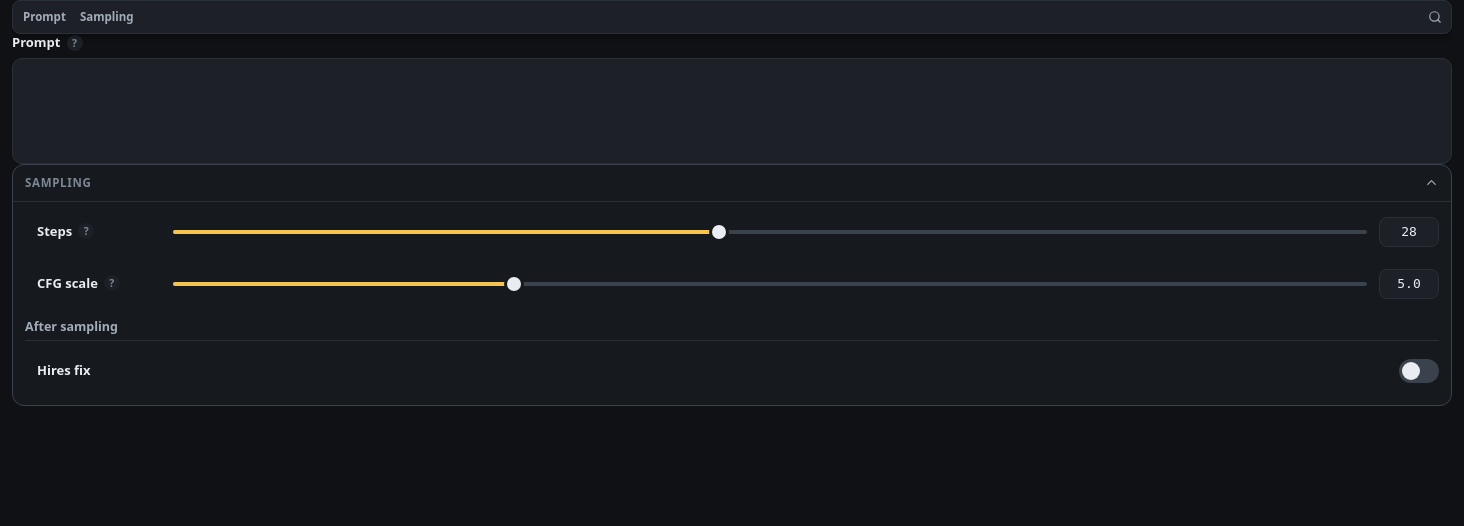
Test: pinned fields › pins from a right-click on a setting's name, first in the form, and unpins from either copy
Check: the slider named "CFG scale" is shown, box left=173, top=273, right=1367, bottom=295
Step 1. Right-click the element showing "CFG scale ?" → (80, 283), box left=37, top=271, right=124, bottom=295
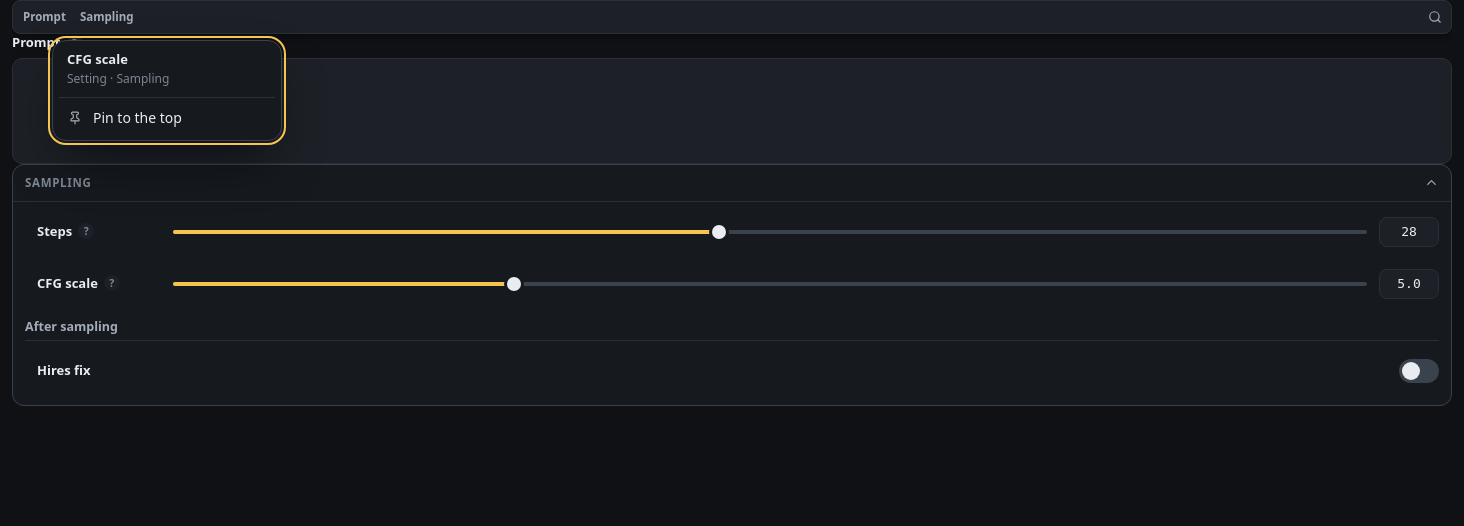
Step 2. Click the menu item "Pin to the top" → (167, 118), box left=59, top=102, right=275, bottom=134
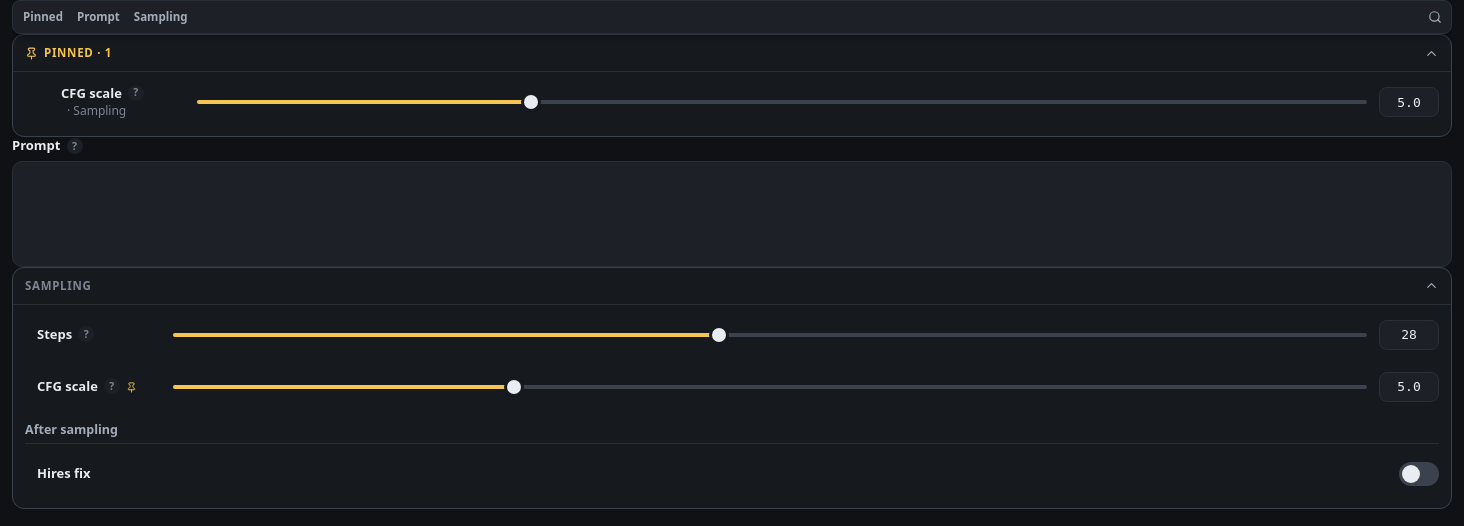
Check: the element showing "Pinned · 1 CFG scale ? · Sampling" is shown, box left=12, top=34, right=1452, bottom=137
Check: the text "Pinned · 1" is shown, box left=44, top=45, right=112, bottom=61
Check: the button "Pinned" is shown, box left=17, top=5, right=69, bottom=29
// unpinned from its section's copy: the card goes, and the family with it
Step 3. Right-click the element showing "CFG scale ?" → (87, 386), box left=37, top=374, right=137, bottom=398
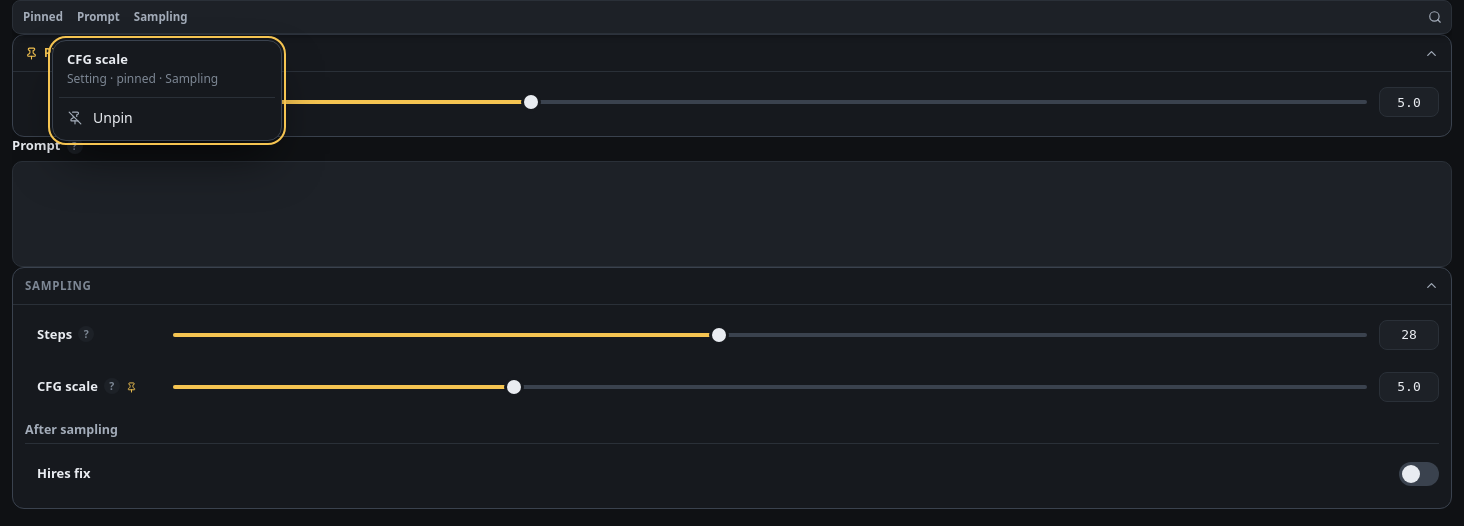
Step 4. Click the menu item "Unpin" → (167, 118), box left=59, top=102, right=275, bottom=134
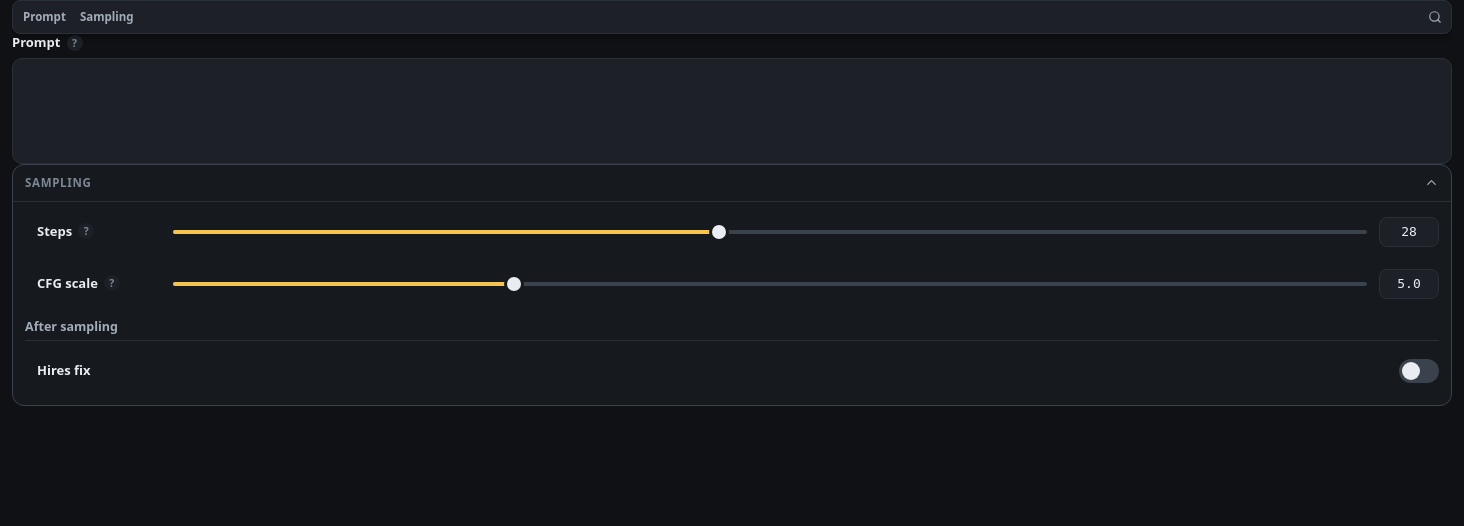
Check: the button "Pinned · 1" is gone
